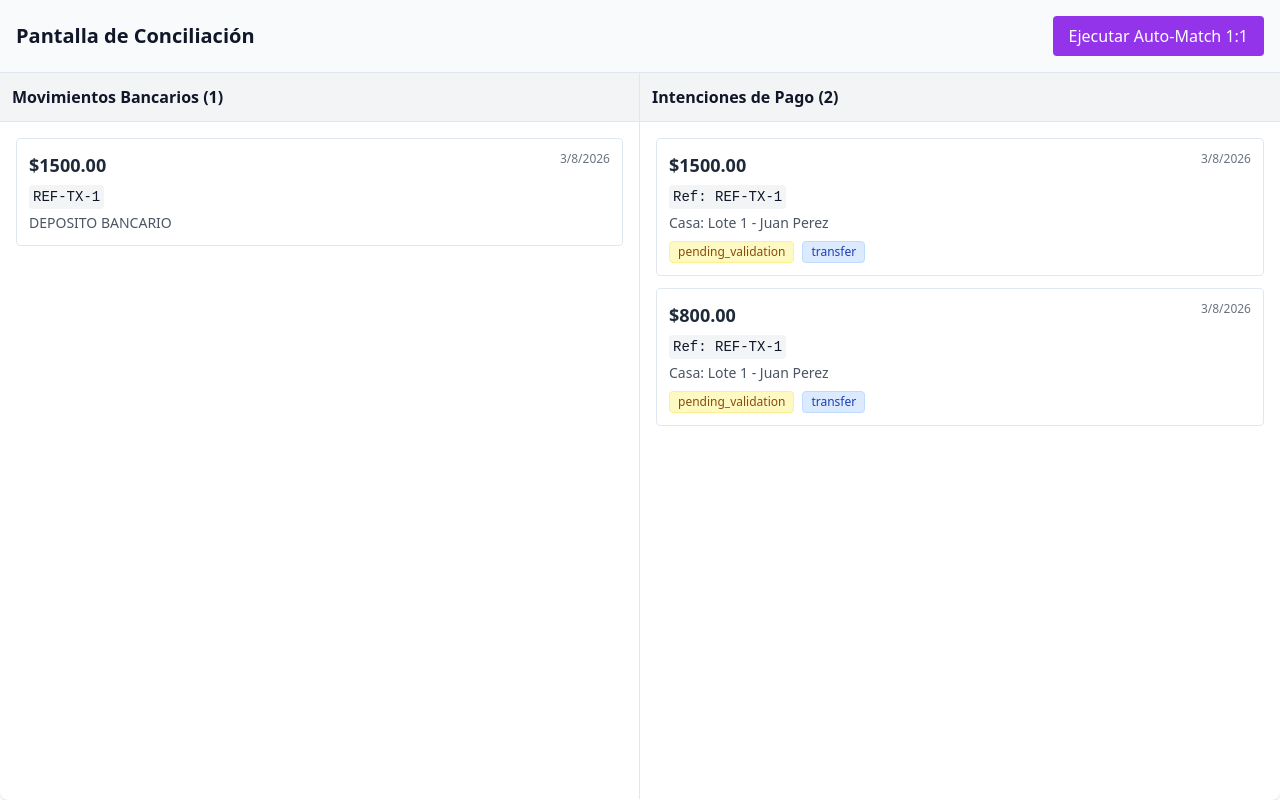
Test: FinancialReconciliationScreen › should disable manual match when amounts mismatch
Click the text "DEPOSITO BANCARIO" at (100, 222), box [29,213,172,232]
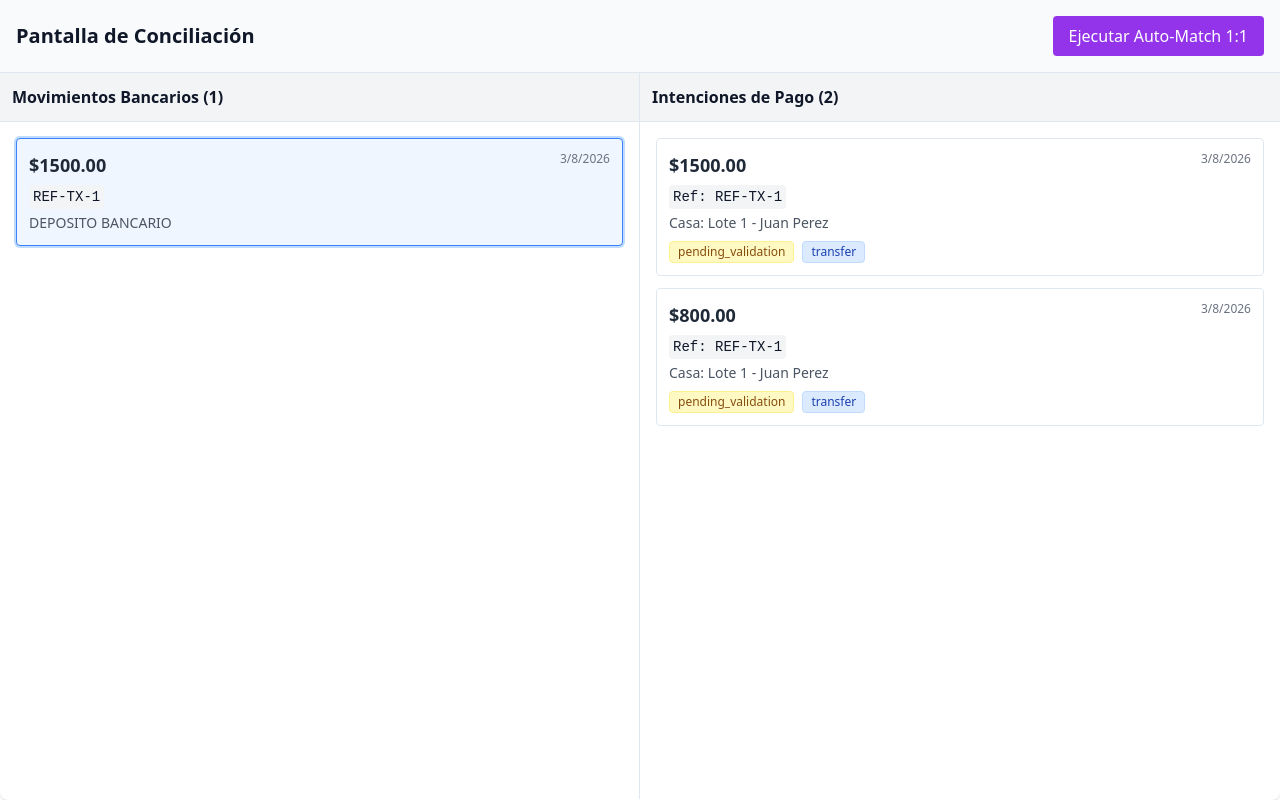
Click the text "$800.00" at (702, 315), box [669,301,736,329]
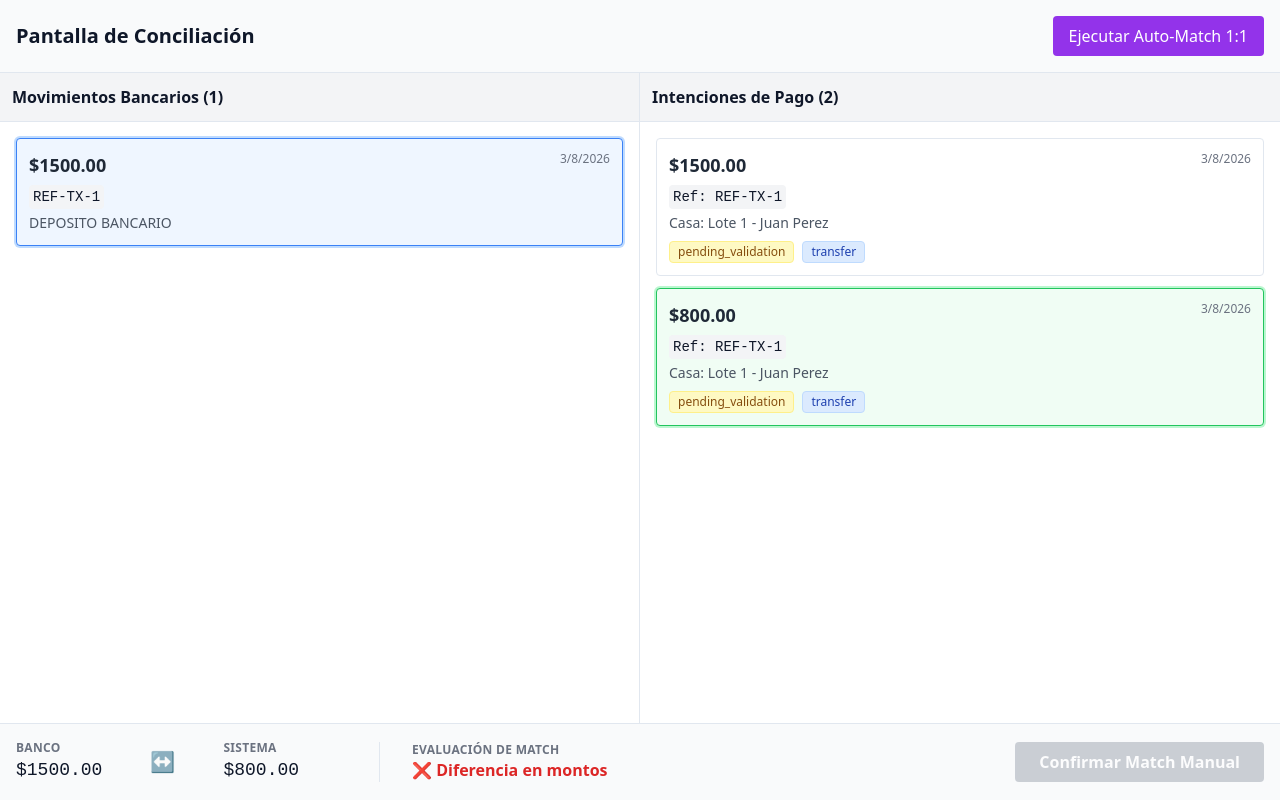
Expected: the text "❌ Diferencia en montos" is shown, [412,758,608,782]
Expected: the button "Confirmar Match Manual" is disabled, [1015,742,1264,782]
